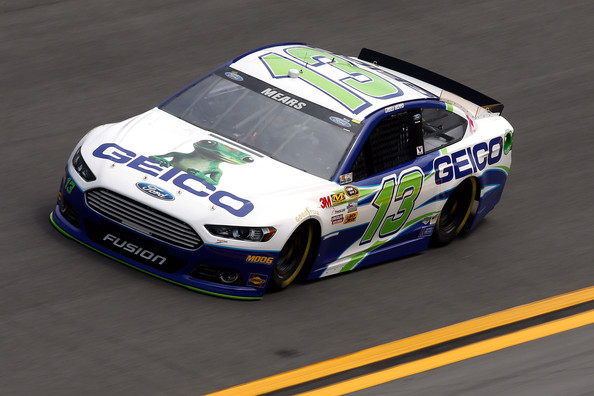Geico: (91, 135, 275, 222), (426, 139, 522, 182)
